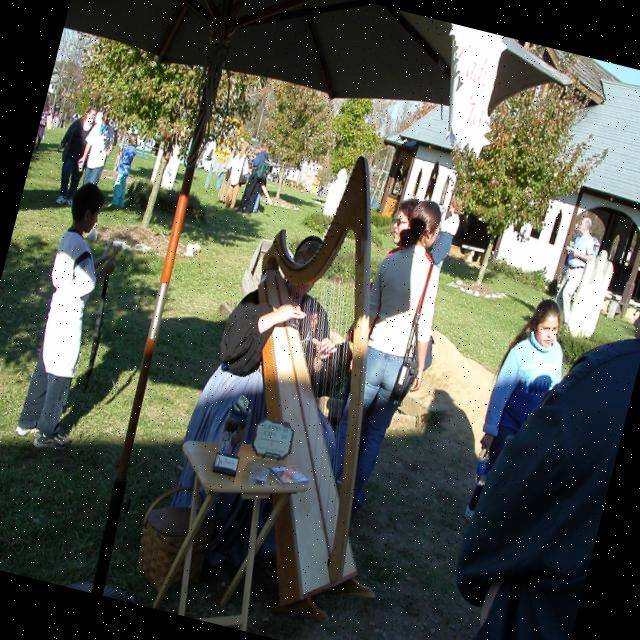harp: (179, 141, 460, 628)
